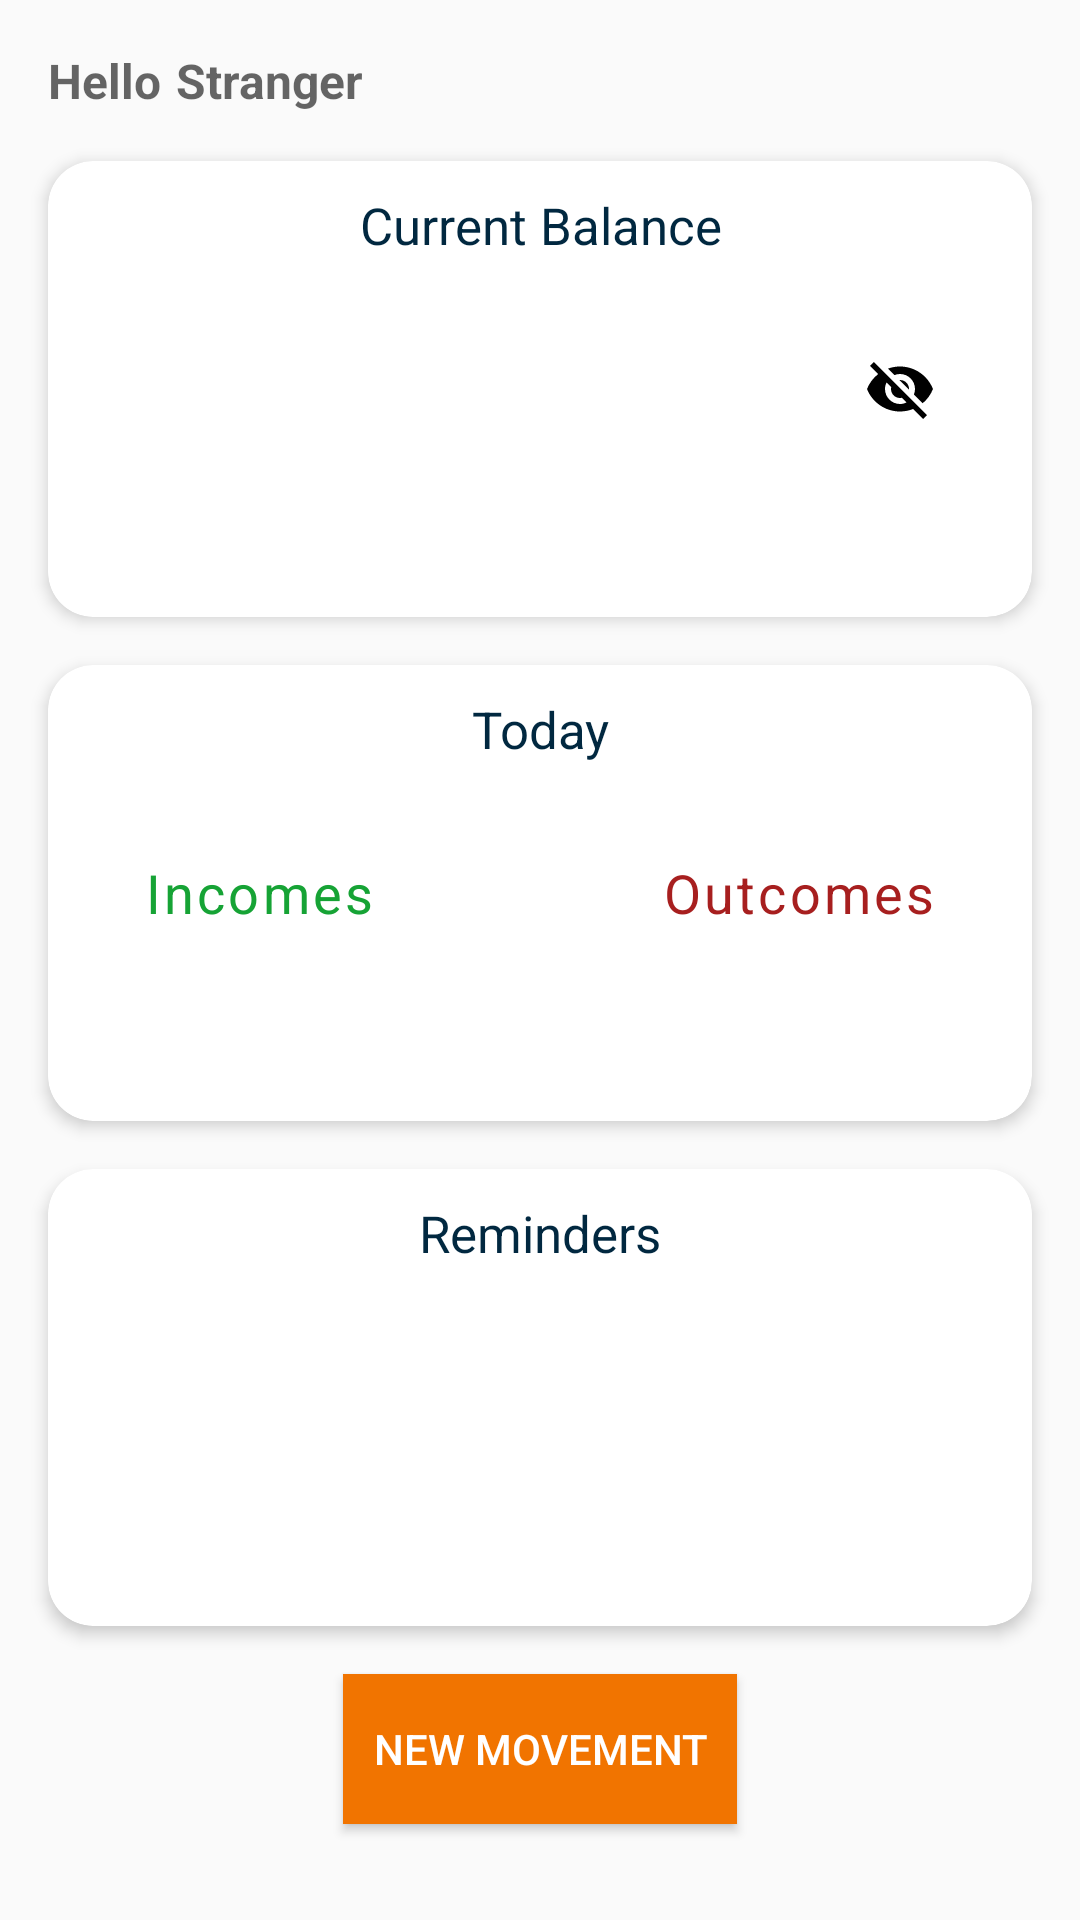

Icon bounding boxes for this 1080 x 1920 phone screenshot, format {"x1": x1, "y1": y1, "x2": x2, "y2": y2}:
Visibility: {"x1": 867, "y1": 362, "x2": 933, "y2": 419}
